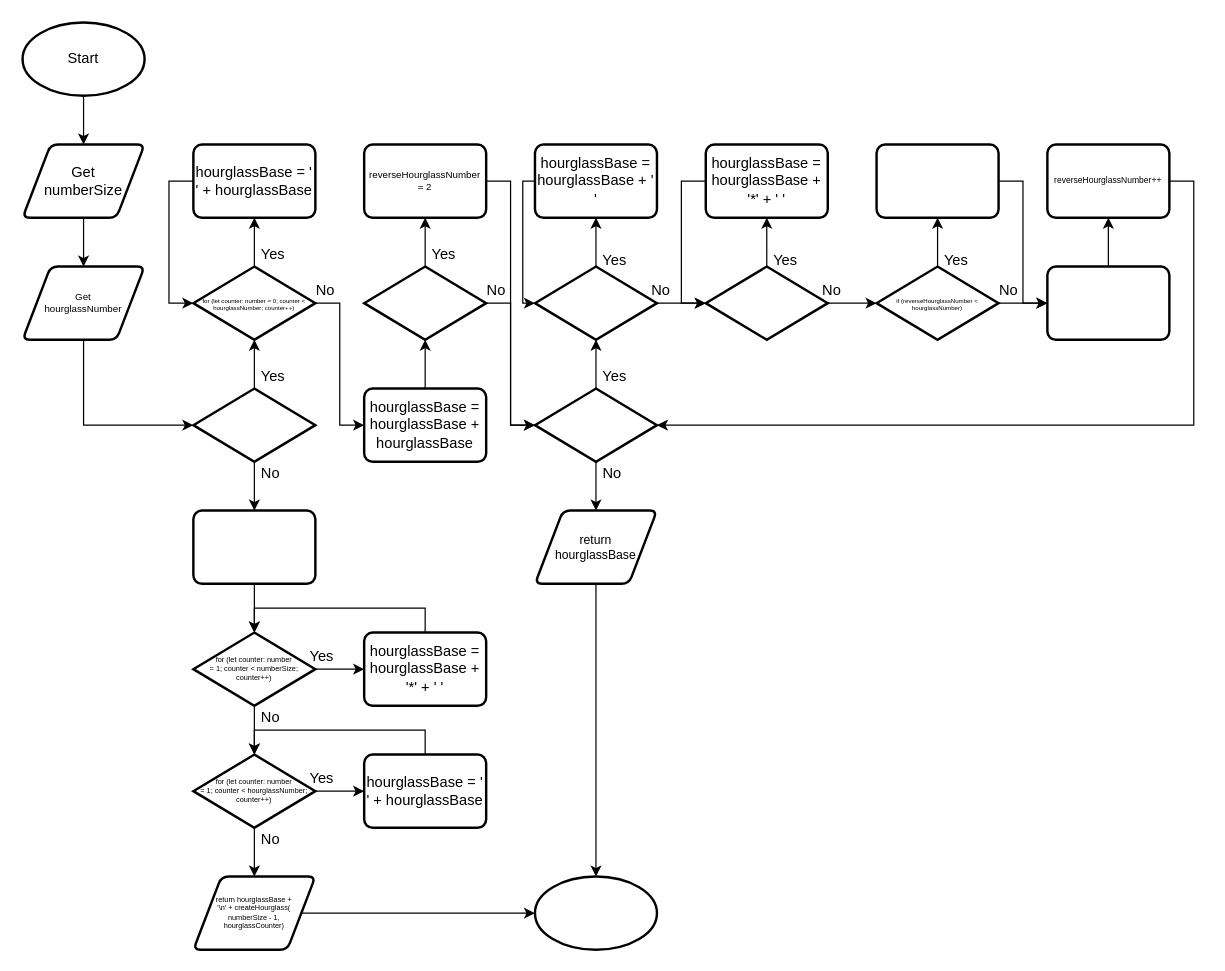
This 1225x971 diagram has some shape labels left out. Each missing label, with the centre of its shape:
"for (let counter: number = 0; counter < newHourglassNumber - 1; counter++)" belongs at point (595, 302).
"for (let counter: number = 0; counter < reverseHourglassNumber; counter++)" belongs at point (766, 302).
"hourglassBase = hourglassBase + '\n'" belongs at point (937, 180).
"hourglassCounter = hourglassNumber + 1" belongs at point (254, 546).
"if ( hourglassNumber > 1)" belongs at point (424, 302).
"if (numberSize == 1)" belongs at point (254, 424).
"newHourglassNumber--" belongs at point (1108, 302).
"Stop" belongs at point (595, 912).
"while (reverseHourglassNumber <= hourglassNumber)" belongs at point (595, 424).
